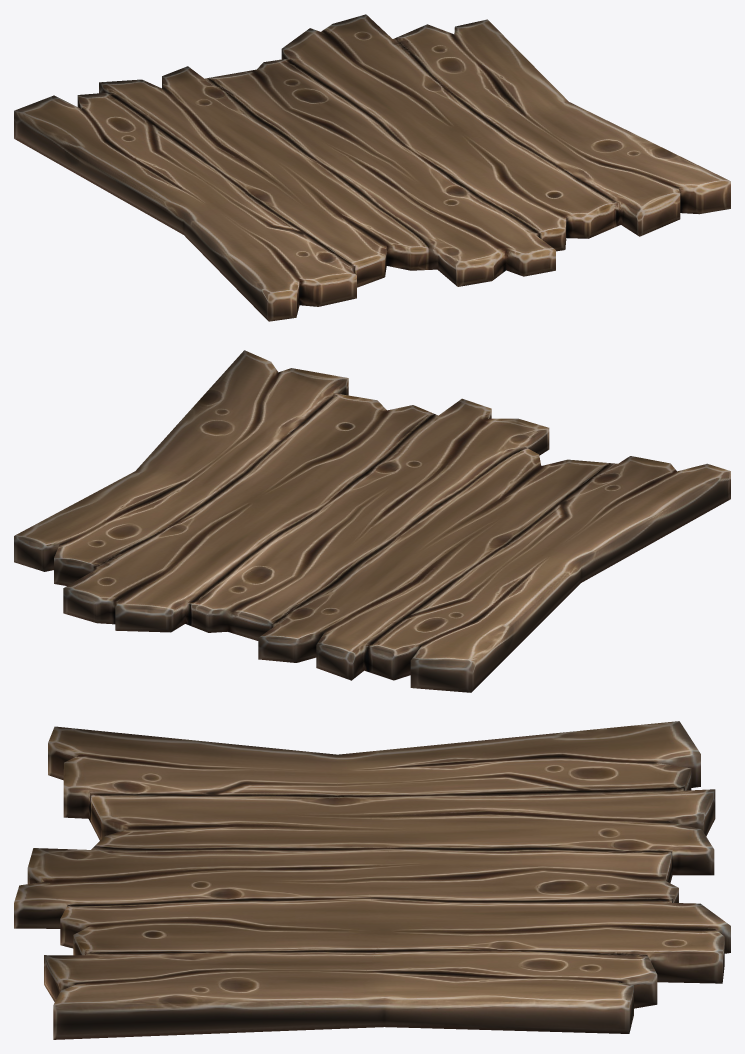
File: stylized_low-poly_wood_floor.glb
3 views of the same model, one above another, from view 1: azimuth 30°, elevation 25°; view 2: azimuth 150°, elevation 25°; view 3: azimuth 270°, elevation 25° (orthographic). The views are drawn at different scales.
Parts seen in each view (by area): view 1: Low; view 2: Low; view 3: Low.
Part boxes in pixels (box(x1,y1,x2,y2)): Low: box(14, 14, 730, 321); Low: box(14, 350, 730, 692); Low: box(14, 721, 730, 1039).
Size of the model in its own units: 614 by 40.62 by 656.
1 material, 1 textured.
